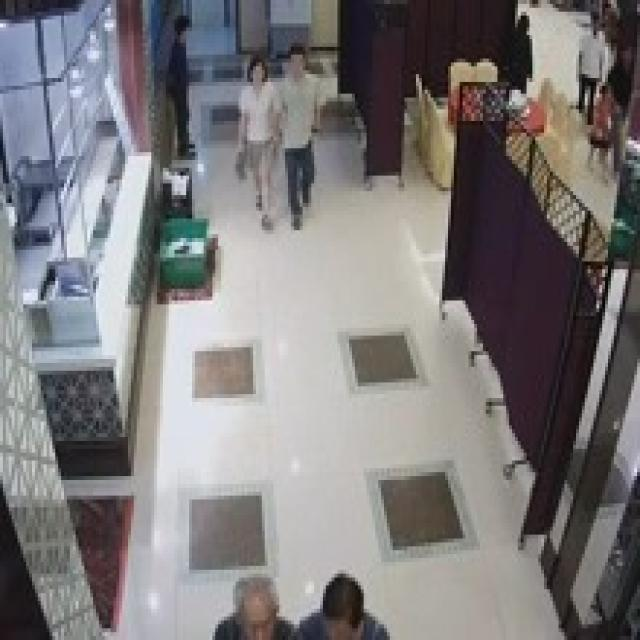normal: (279, 33, 329, 216), (157, 9, 214, 166), (235, 35, 282, 213)
